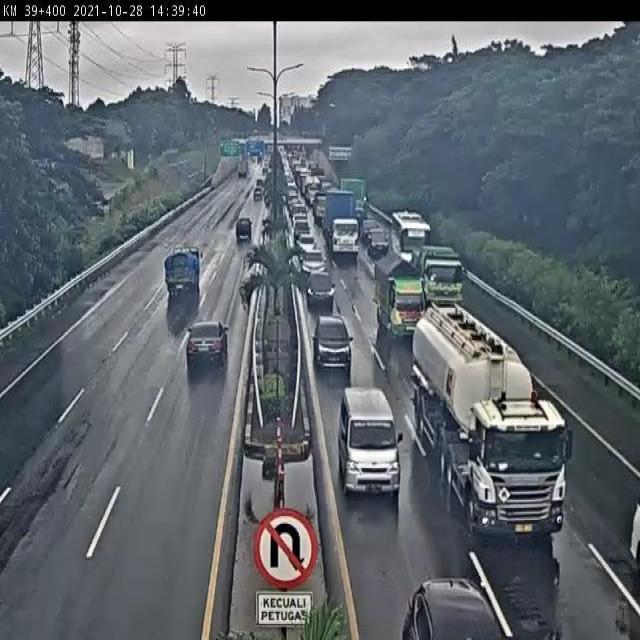car: (338, 386, 401, 498), (314, 316, 350, 367), (186, 323, 230, 363), (305, 269, 336, 304), (301, 248, 326, 277), (367, 228, 390, 257), (234, 213, 255, 240)
truck: (413, 311, 568, 535), (376, 257, 429, 339), (410, 243, 463, 303), (325, 187, 361, 259), (389, 212, 429, 265), (164, 244, 202, 293)
